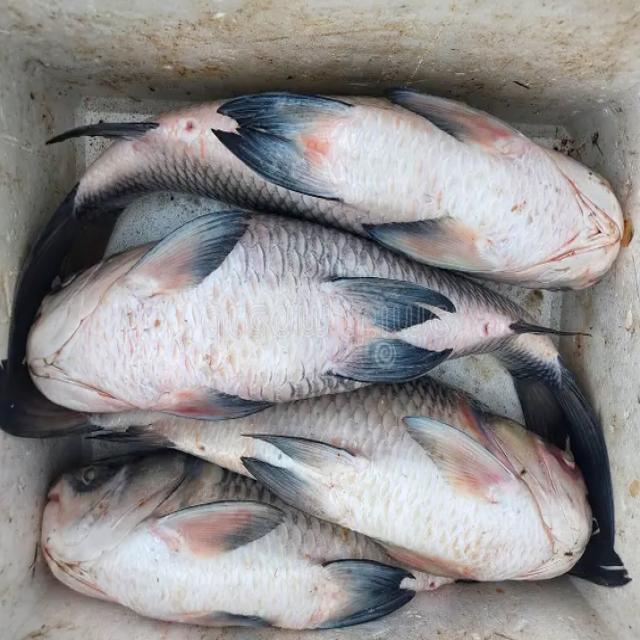Catla: (29, 211, 614, 548)
